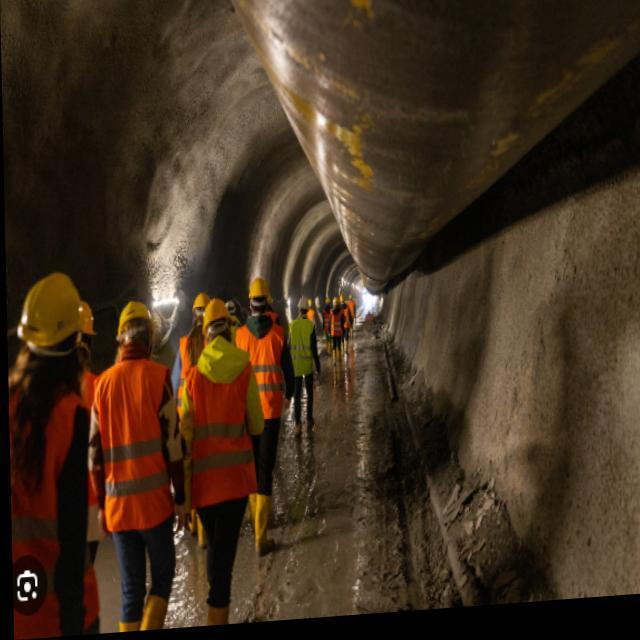helmet: (14, 269, 91, 394), (115, 299, 158, 362), (67, 298, 98, 360), (201, 297, 233, 342), (248, 275, 270, 315), (191, 290, 214, 324), (224, 298, 237, 321), (298, 296, 310, 319), (264, 293, 275, 307), (306, 299, 313, 310), (333, 296, 340, 307), (339, 293, 346, 304), (325, 296, 331, 306), (348, 292, 354, 301)
vest: (9, 379, 104, 640), (92, 354, 177, 537), (184, 354, 259, 511), (46, 367, 102, 513), (235, 321, 286, 423), (175, 331, 218, 429), (290, 317, 315, 378), (259, 309, 278, 345), (226, 314, 242, 352), (330, 309, 344, 339), (323, 308, 335, 332), (340, 306, 351, 330), (306, 308, 315, 327), (347, 300, 356, 318)
